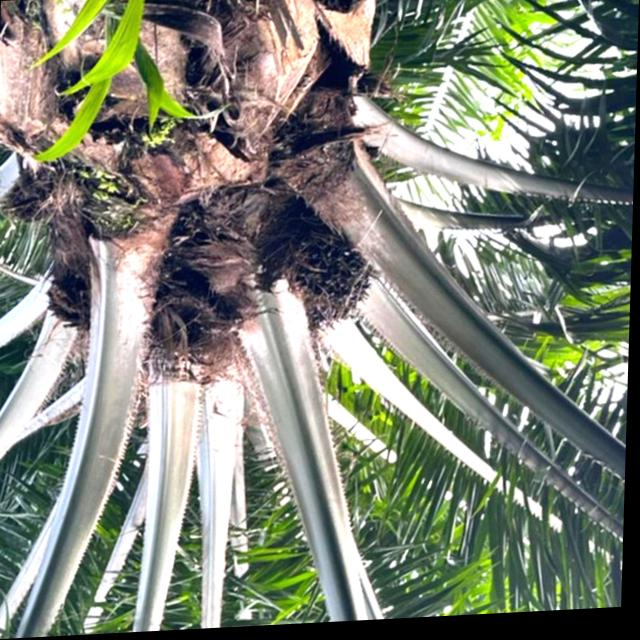unripe: (269, 207, 381, 337)
